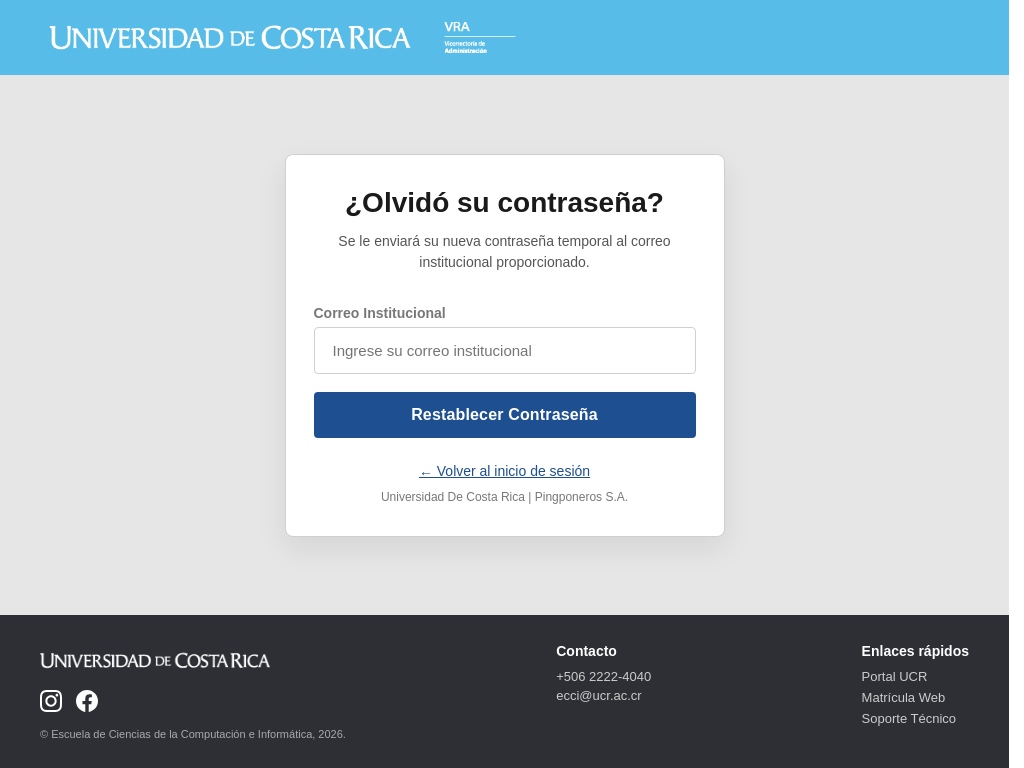
Test: ForgotPassword Page › muestra error de formato cuando el correo no cumple el patrón UCR
Type "invalido@gmail.com" into the field at {"x": 504, "y": 350}, box [314,326,696,374]
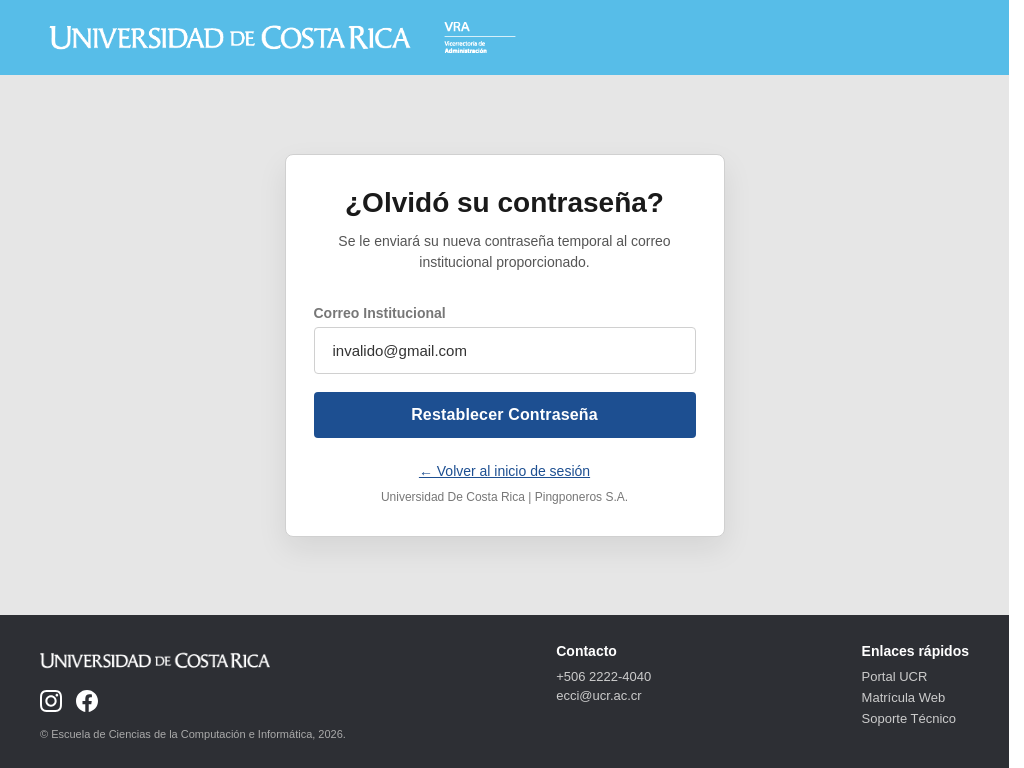
Click the button "Restablecer Contraseña" at {"x": 504, "y": 414}, box [314,392,696,438]
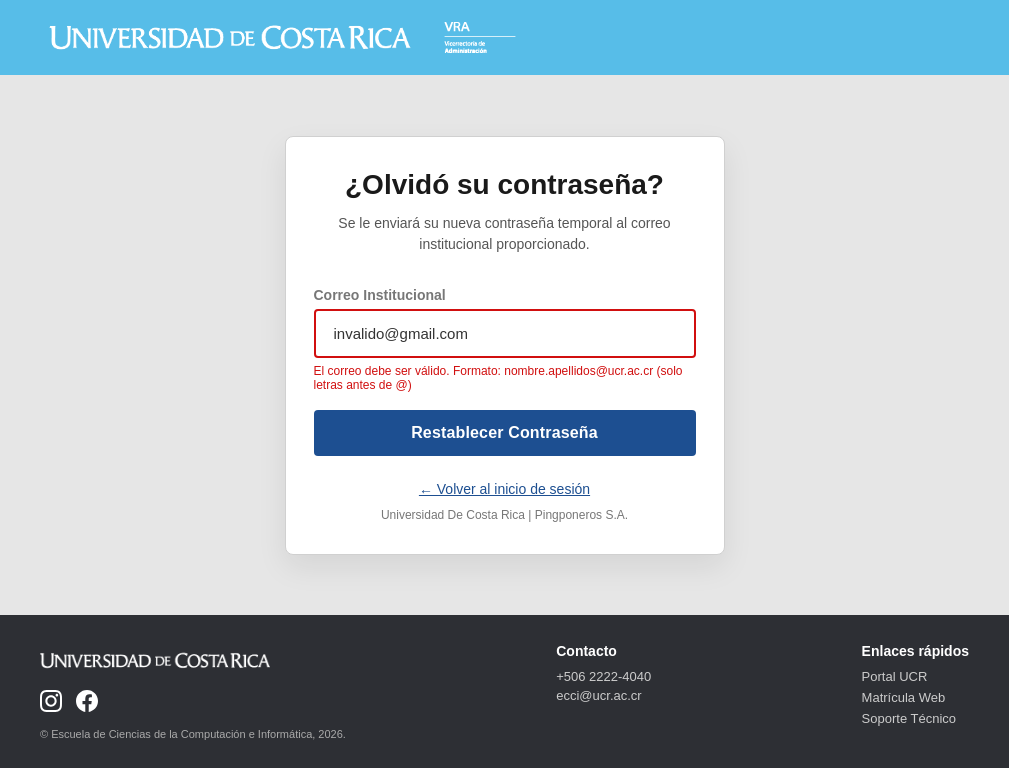
Now the text "El correo debe ser válido" is shown, box [314,364,682,392]
